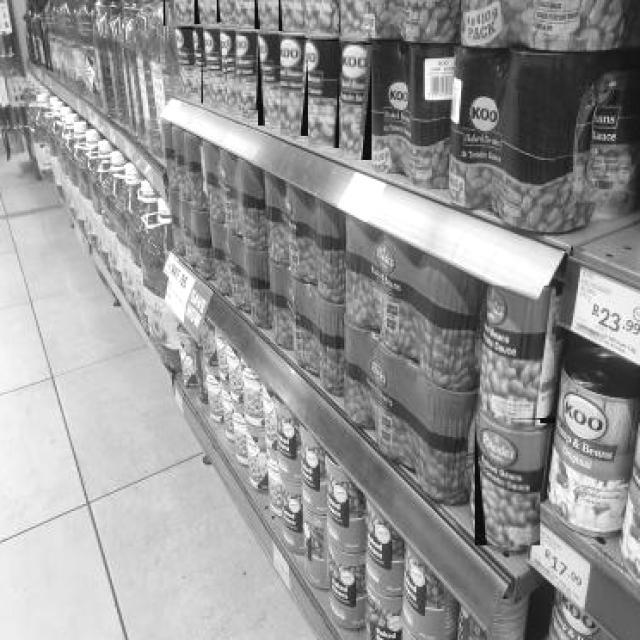Beans: (480, 286, 558, 426), (475, 419, 542, 548), (343, 43, 374, 162), (308, 39, 341, 150), (280, 36, 310, 138), (227, 37, 260, 113), (258, 34, 284, 128), (170, 27, 196, 94), (201, 31, 224, 105), (304, 0, 336, 36), (338, 0, 366, 34), (278, 0, 306, 33), (254, 0, 280, 31), (164, 0, 192, 28), (232, 0, 255, 28), (194, 0, 218, 26), (217, 0, 237, 24)
